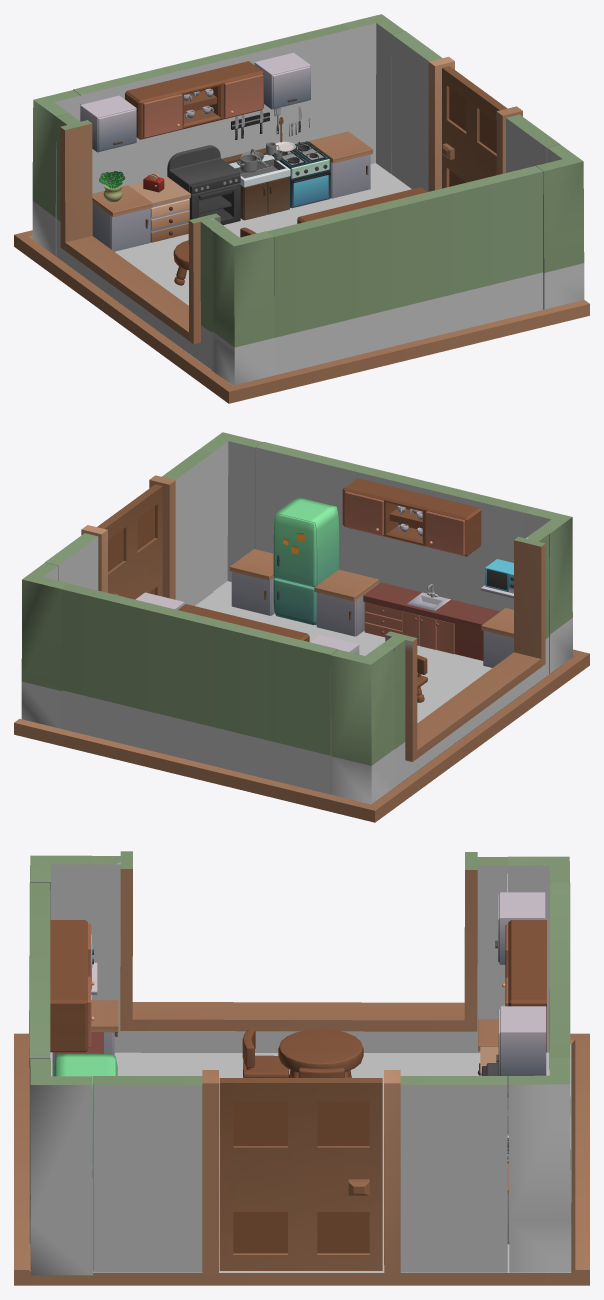
File: COCINA completa color VERDE.fbx
3 views of the same model, one above another, from view 1: azimuth 30°, elevation 25°; view 2: azimuth 150°, elevation 25°; view 3: azimuth 270°, elevation 25° (orthographic). The views are drawn at different scales.
Parts seen in each view (by area): view 1: paret_basica2, muebles_cocina_1, suelo, paret_basica8, paret_con_ventana_grande14, muebles_cocina_paret, paret_puerta, paret_esquina6, paret_esquina_5, paret_esquina_8, puerta, paret_esquina7 (+5 smaller); view 2: paret_basica8, paret_basica2, suelo, paret_con_ventana_grande14, mueble_cocina_2, paret_puerta, paret_esquina7, mueble_paret_2, nevera, paret_esquina_8, paret_esquina_5, puerta (+3 smaller); view 3: paret_puerta, puerta, paret_con_ventana_grande14, suelo, paret_esquina_5, paret_esquina_8, muebles_cocina_paret, mueble_paret_2, mesa_con_cadiras, paret_basica2, paret_basica8, paret_esquina6 (+4 smaller).
Part boxes in pixels (x1,y1,x2,y2): paret_basica2: (267,166,543,375); muebles_cocina_1: (92,131,372,251); suelo: (14,163,589,403); paret_basica8: (73,24,349,193); paret_con_ventana_grande14: (56,113,223,369); muebles_cocina_paret: (80,52,310,152); paret_puerta: (392,31,560,191); paret_esquina6: (210,226,274,385); paret_esquina_5: (536,144,584,309); paret_esquina_8: (342,14,404,174); puerta: (442,66,507,188); paret_esquina7: (32,90,80,256); paret_basica8: (62,584,337,794); paret_basica2: (256,442,531,611); suelo: (14,581,589,822); paret_con_ventana_grande14: (381,530,549,786); mueble_cocina_2: (229,549,513,667); paret_puerta: (45,449,213,605); paret_esquina7: (330,644,394,804); mueble_paret_2: (342,478,481,556); nevera: (273,497,339,625); paret_esquina_8: (21,562,69,728); paret_esquina_5: (200,432,262,590); puerta: (97,484,162,599); paret_puerta: (93,1070,507,1274); puerta: (219,1078,382,1270); paret_con_ventana_grande14: (91,851,507,1052); suelo: (14,1033,589,1285); paret_esquina_5: (30,1059,92,1275); paret_esquina_8: (508,1058,571,1272); muebles_cocina_paret: (495,892,546,1078); mueble_paret_2: (50,920,94,1052); mesa_con_cadiras: (242,1029,363,1077); paret_basica2: (29,882,50,1243); paret_basica8: (549,882,570,1057); paret_esquina6: (29,855,92,1067).
Bounding box in the file's own units: 899 × 360 × 918.
